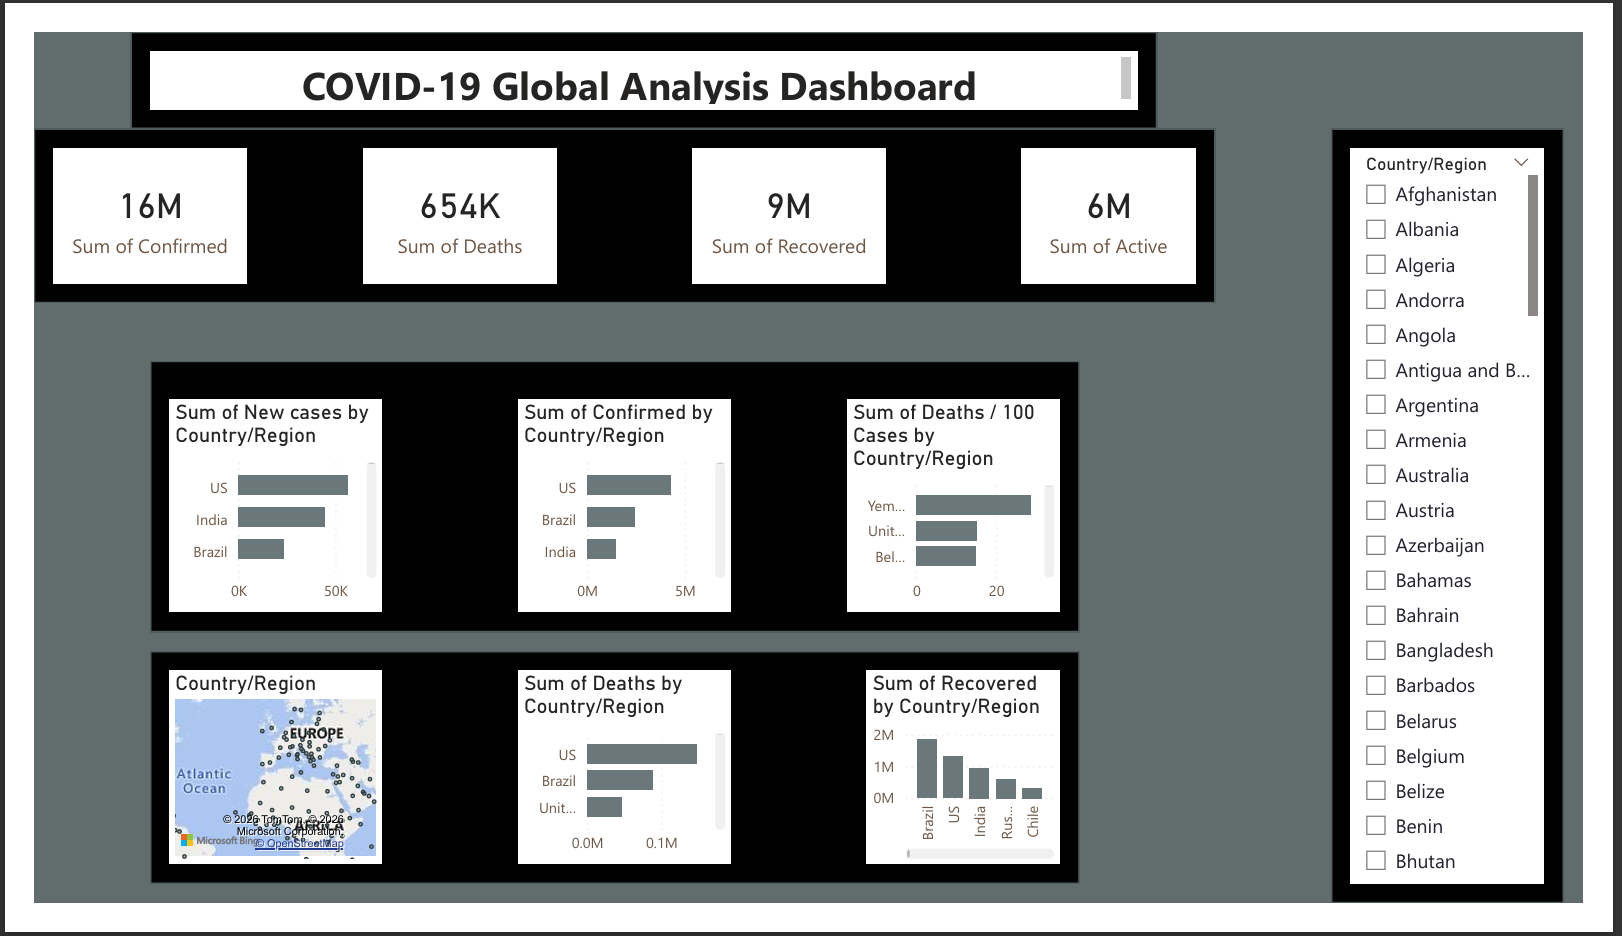

What the dashboard file says about the page in this screenshot:
{"tool":"powerbi","page":{"name":"Page 1","canvas":[1280,720],"ordinal":0},"visuals":[{"type":"shape","box":[80,0,848,80],"z":0},{"type":"shape","box":[1072,80,192,640],"z":1000},{"type":"shape","box":[96,512,768,192],"z":2000},{"type":"shape","box":[96,272,768,224],"z":3000},{"type":"shape","box":[0,80,976,144],"z":4000},{"type":"card","fields":{"Values":["Sum(country_wise_latest (1).Confirmed)"]},"box":[16,96,160,112],"z":5000},{"type":"card","fields":{"Values":["Sum(country_wise_latest (1).Deaths)"]},"box":[272,96,160,112],"z":6000},{"type":"card","fields":{"Values":["Sum(country_wise_latest (1).Recovered)"]},"box":[544,96,160,112],"z":7000},{"type":"card","fields":{"Values":["Sum(country_wise_latest (1).Active)"]},"box":[816,96,144,112],"z":8000},{"type":"clusteredBarChart","fields":{"Category":["country_wise_latest (1).Country/Region"],"Y":["Sum(country_wise_latest (1).Confirmed)"]},"box":[400,304,176,176],"z":9000},{"type":"clusteredBarChart","fields":{"Y":["Sum(country_wise_latest (1).Deaths)"],"Category":["country_wise_latest (1).Country/Region"]},"box":[400,528,176,160],"z":10000},{"type":"clusteredBarChart","fields":{"Category":["country_wise_latest (1).Country/Region"],"Y":["Sum(country_wise_latest (1).New cases)"]},"box":[112,304,176,176],"z":11000},{"type":"map","fields":{"Category":["country_wise_latest (1).Country/Region"]},"box":[112,528,176,160],"z":12000},{"type":"clusteredBarChart","fields":{"Category":["country_wise_latest (1).Country/Region"],"Y":["Sum(country_wise_latest (1).Deaths / 100 Cases)"]},"box":[672,304,176,176],"z":13000},{"type":"columnChart","fields":{"Category":["country_wise_latest (1).Country/Region"],"Y":["Sum(country_wise_latest (1).Recovered)"]},"box":[688,528,160,160],"z":14000},{"type":"slicer","fields":{"Values":["country_wise_latest (1).Country/Region"]},"box":[1088,96,160,608],"z":15000},{"type":"textbox","box":[96,16,816,48],"z":16000}]}

Visuals, with their boxes in screenshot pixels (x1, y1, x2, y2), scaled from the page's 1280x720 canvas onto the 1622x936 screenshot:
shape: (x1=101, y1=0, x2=1176, y2=104)
shape: (x1=1358, y1=104, x2=1602, y2=935)
shape: (x1=122, y1=666, x2=1095, y2=915)
shape: (x1=122, y1=354, x2=1095, y2=645)
shape: (x1=0, y1=104, x2=1237, y2=291)
card - Sum(country_wise_latest (1).Confirmed): (x1=20, y1=125, x2=223, y2=270)
card - Sum(country_wise_latest (1).Deaths): (x1=345, y1=125, x2=547, y2=270)
card - Sum(country_wise_latest (1).Recovered): (x1=689, y1=125, x2=892, y2=270)
card - Sum(country_wise_latest (1).Active): (x1=1034, y1=125, x2=1216, y2=270)
clusteredBarChart - country_wise_latest (1).Country/Region x Sum(country_wise_latest (1).Confirmed): (x1=507, y1=395, x2=730, y2=624)
clusteredBarChart - Sum(country_wise_latest (1).Deaths) x country_wise_latest (1).Country/Region: (x1=507, y1=686, x2=730, y2=894)
clusteredBarChart - country_wise_latest (1).Country/Region x Sum(country_wise_latest (1).New cases): (x1=142, y1=395, x2=365, y2=624)
map - country_wise_latest (1).Country/Region: (x1=142, y1=686, x2=365, y2=894)
clusteredBarChart - country_wise_latest (1).Country/Region x Sum(country_wise_latest (1).Deaths / 100 Cases): (x1=852, y1=395, x2=1075, y2=624)
columnChart - country_wise_latest (1).Country/Region x Sum(country_wise_latest (1).Recovered): (x1=872, y1=686, x2=1075, y2=894)
slicer - country_wise_latest (1).Country/Region: (x1=1379, y1=125, x2=1581, y2=915)
textbox: (x1=122, y1=21, x2=1156, y2=83)
